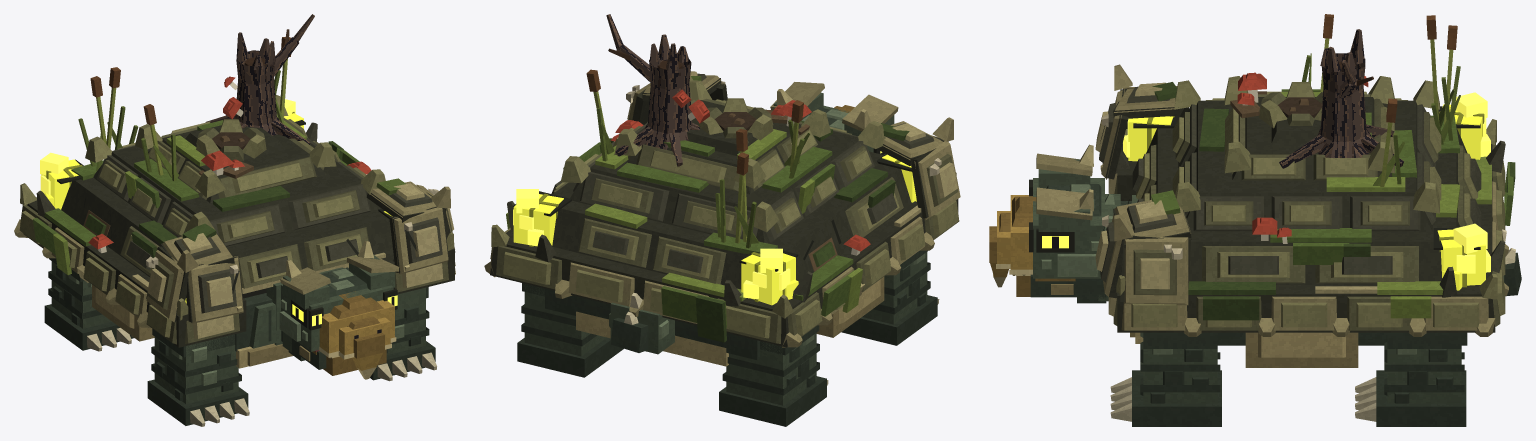
The model's file is fmob_snapper.glb.
3 renders of one model, left to right at view 1: azimuth 30°, elevation 25°; view 2: azimuth 150°, elevation 25°; view 3: azimuth 270°, elevation 25°, orthographic. The views are drawn at different scales.
Visible parts, largest first — view 1: fmob_snapper, head, leg_fr, armor_fr, armor_fl, leg_br, leg_fl, weak_br, jaw; view 2: fmob_snapper, leg_br, leg_bl, armor_fr, leg_fr, head, sway_tail, weak_br, weak_bl, armor_fl; view 3: fmob_snapper, head, leg_bl, leg_fl, armor_fl, armor_fr, weak_bl, weak_br, jaw, weak_fr, sway_tail.
Part boxes in pixels (x1=…): fmob_snapper: x1=14, y1=14, x2=455, y2=368; head: x1=266, y1=241, x2=398, y2=379; leg_fr: x1=147, y1=329, x2=249, y2=426; armor_fr: x1=146, y1=223, x2=244, y2=323; armor_fl: x1=366, y1=178, x2=455, y2=274; leg_br: x1=44, y1=258, x2=133, y2=351; leg_fl: x1=370, y1=287, x2=436, y2=381; weak_br: x1=40, y1=152, x2=82, y2=209; jaw: x1=295, y1=341, x2=387, y2=375; fmob_snapper: x1=484, y1=14, x2=959, y2=366; leg_br: x1=719, y1=325, x2=828, y2=426; leg_bl: x1=517, y1=283, x2=623, y2=377; armor_fr: x1=877, y1=117, x2=960, y2=219; leg_fr: x1=841, y1=250, x2=939, y2=345; head: x1=770, y1=82, x2=898, y2=154; sway_tail: x1=609, y1=293, x2=674, y2=354; weak_br: x1=741, y1=248, x2=798, y2=305; weak_bl: x1=513, y1=189, x2=563, y2=246; armor_fl: x1=626, y1=71, x2=727, y2=124; fmob_snapper: x1=1108, y1=14, x2=1515, y2=367; head: x1=989, y1=144, x2=1138, y2=303; leg_bl: x1=1355, y1=332, x2=1466, y2=426; leg_fl: x1=1110, y1=332, x2=1221, y2=426; armor_fl: x1=1095, y1=190, x2=1191, y2=305; armor_fr: x1=1095, y1=64, x2=1188, y2=179; weak_bl: x1=1437, y1=223, x2=1490, y2=290; weak_br: x1=1439, y1=92, x2=1490, y2=159; jaw: x1=1015, y1=274, x2=1086, y2=297; weak_fr: x1=1123, y1=116, x2=1174, y2=161; sway_tail: x1=1501, y1=229, x2=1521, y2=296.
Bounding box in the file's own units: 3.67 × 3.41 × 4.73.
Materials: 36 (28 with a texture image).
